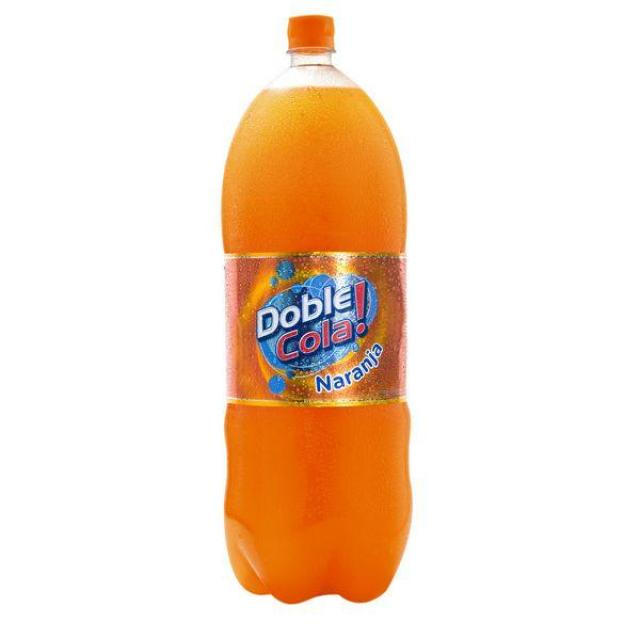doble cola naranja: (180, 4, 441, 608)
